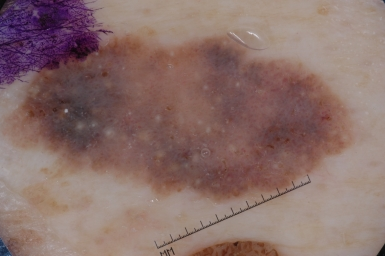seborrheic keratosis: (24, 36, 356, 191)
